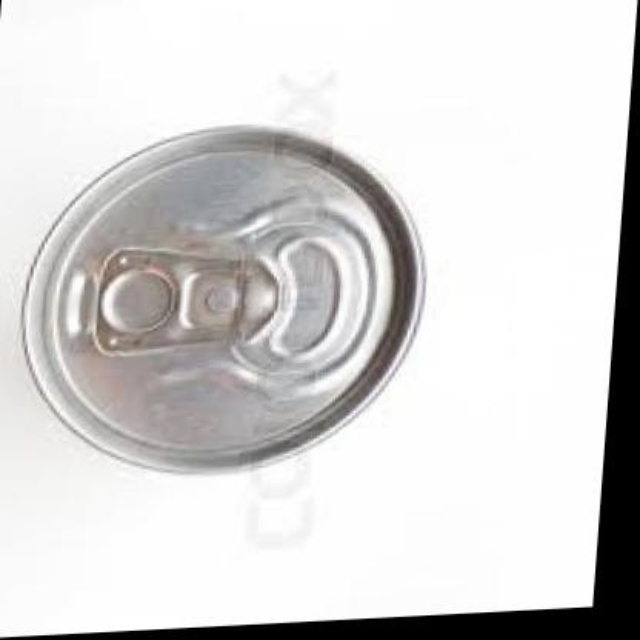trash: (0, 0, 634, 634), (20, 123, 426, 474), (23, 126, 423, 471)
